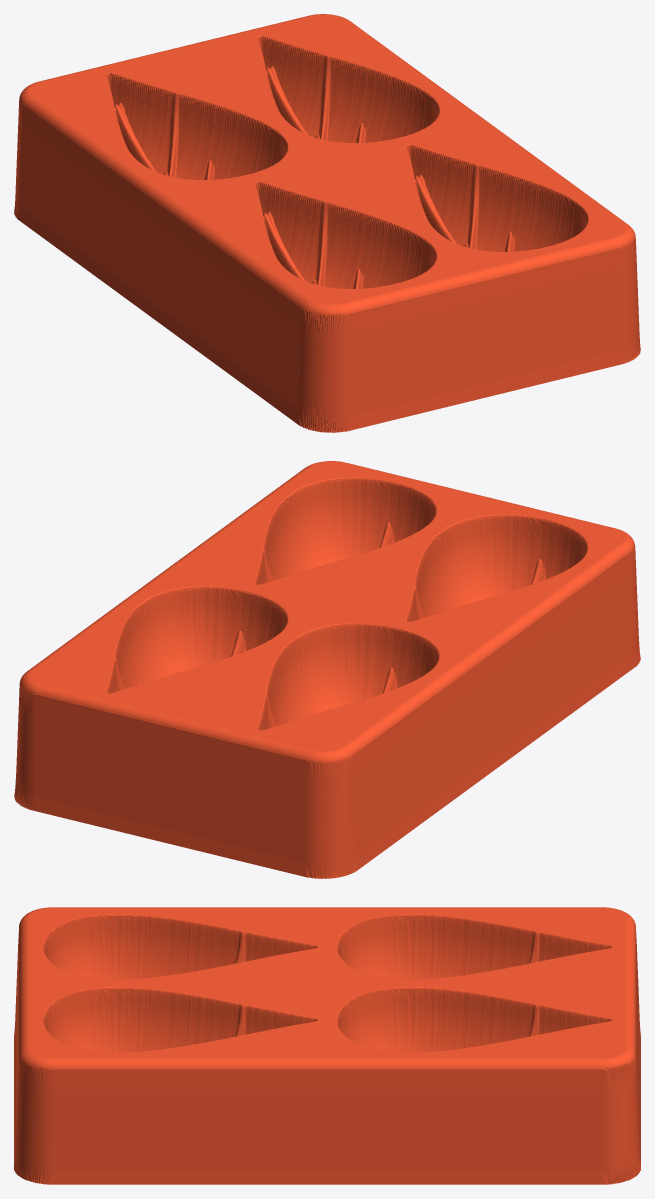
File: mold.glb
3 views of the same model, one above another, from view 1: azimuth 30°, elevation 25°; view 2: azimuth 150°, elevation 25°; view 3: azimuth 270°, elevation 25° (orthographic).
Parts seen in each view (by area): view 1: geometry_0; view 2: geometry_0; view 3: geometry_0.
Part boxes in pixels (x1,y1,x2,y2): geometry_0: [14, 14, 640, 432]; geometry_0: [14, 461, 640, 878]; geometry_0: [14, 907, 640, 1184].
Bounding box in the file's own units: 0.0901 × 0.031 × 0.1466.
